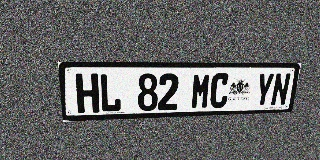2: (158, 73, 179, 110)
8: (138, 73, 159, 111)
C: (209, 73, 230, 108)
H: (75, 74, 99, 113)
L: (99, 73, 121, 112)
M: (190, 73, 212, 109)
N: (270, 73, 291, 106)
Y: (254, 73, 275, 107)
